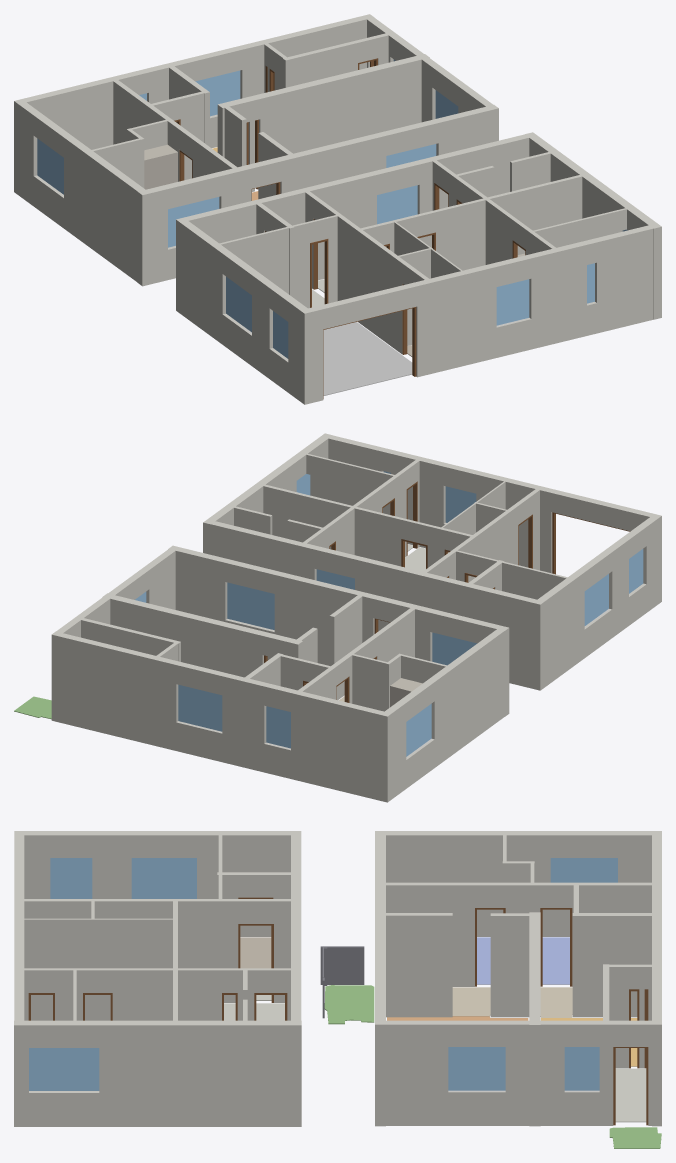
The picture shows the model from 3 angles, top to bottom: view 1: azimuth 30°, elevation 25°; view 2: azimuth 150°, elevation 25°; view 3: azimuth 270°, elevation 25°; orthographic projection. The views are drawn at different scales.
Visible parts, largest first — view 1: walls, floor_12_Garage, window_0, furniture_1_closet, window_12, window_2, window_4, window_24, window_3, window_6, window_20; view 2: walls, window_6, window_2, window_4, window_5, window_3, window_24, window_0, floor_18_Outdoor; view 3: walls, window_16, window_24, window_21, floor_3_Entry, floor_19_Outdoor, railings, window_20, floor_5_Undefined, window_4, window_23, floor_0_Bed_Room (+7 smaller).
Boxes of the visible parts, <box> form: walls: <box>14,14,661,404</box>; floor_12_Garage: <box>323,322,412,395</box>; window_0: <box>496,279,529,325</box>; furniture_1_closet: <box>144,144,177,189</box>; window_12: <box>377,185,417,224</box>; window_2: <box>195,70,240,116</box>; window_4: <box>37,138,63,194</box>; window_24: <box>226,276,251,332</box>; window_3: <box>168,197,219,247</box>; window_6: <box>386,144,436,167</box>; window_20: <box>273,311,288,358</box>; walls: <box>51,433,661,802</box>; window_6: <box>227,582,274,629</box>; window_2: <box>178,684,222,731</box>; window_4: <box>406,703,431,756</box>; window_5: <box>266,706,290,748</box>; window_3: <box>432,632,477,665</box>; window_24: <box>584,574,608,625</box>; window_0: <box>445,486,476,522</box>; floor_18_Outdoor: <box>14,696,51,719</box>; walls: <box>14,831,661,1126</box>; window_16: <box>29,1048,99,1090</box>; window_24: <box>131,858,196,898</box>; window_21: <box>448,1047,505,1090</box>; floor_3_Entry: <box>452,987,572,1017</box>; floor_19_Outdoor: <box>324,985,374,1024</box>; railings: <box>320,946,364,1018</box>; window_20: <box>50,858,92,898</box>; floor_5_Undefined: <box>615,1068,646,1122</box>; window_4: <box>550,858,617,882</box>; window_23: <box>564,1047,599,1090</box>; floor_0_Bed_Room: <box>542,937,569,984</box>.
Bounding box in the file's own units: 12.3 × 2.72 × 15.62.
